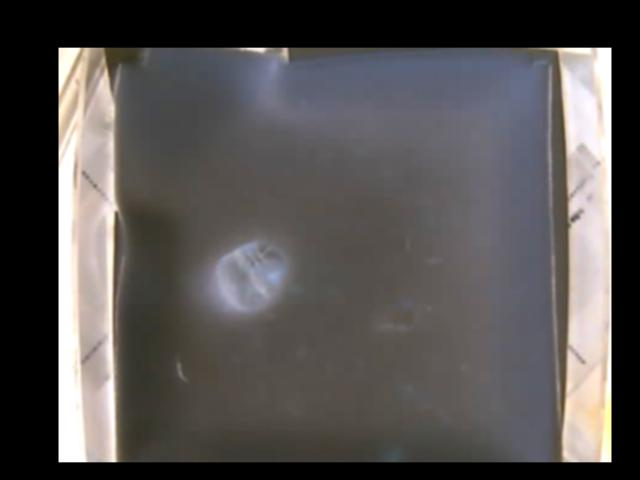Pebble: (214, 239, 286, 308)
